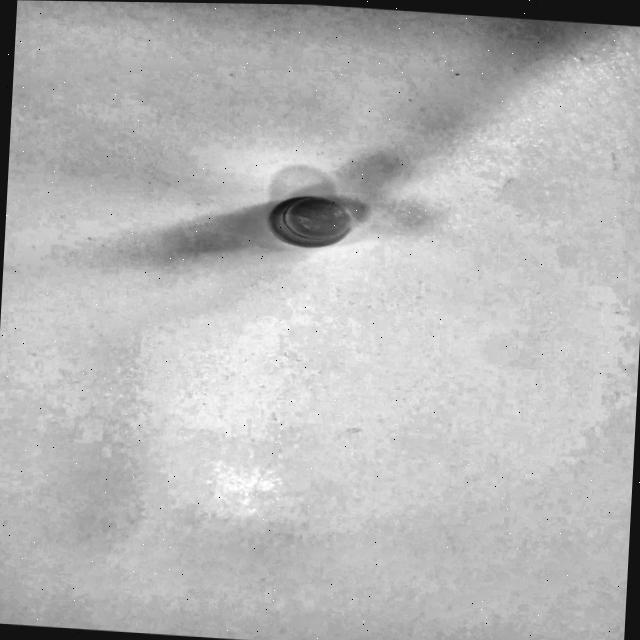white-pawn: (253, 171, 394, 260)
